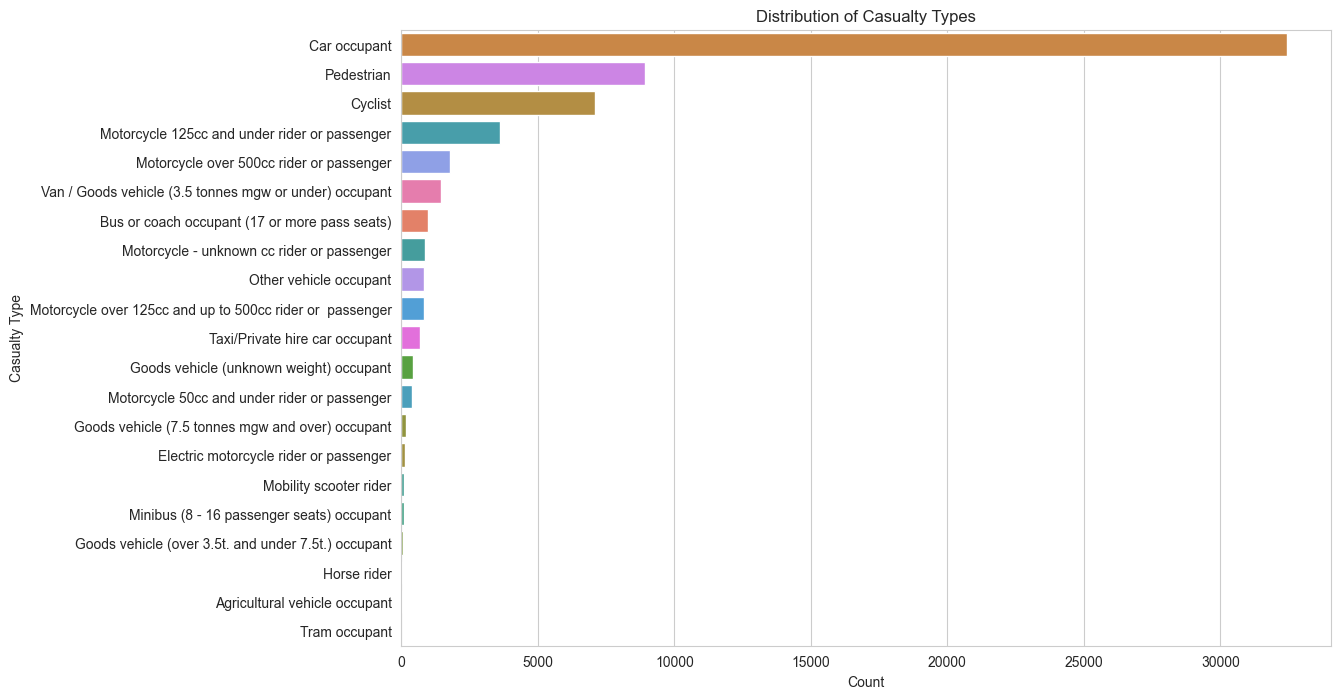

This screenshot's page, from the dashboard's own definition file:
{"tool":"powerbi","page":{"name":"Casualty Type / Home Area Type","canvas":[1280,720],"ordinal":8},"visuals":[{"type":"clusteredBarChart","fields":{"Series":["clean_df.casualty_home_area_type"],"Category":["clean_df.casualty_type"],"Y":["CountNonNull(clean_df.accident_index)"]},"box":[9.7,0,1270.3,719.8],"z":0}]}

Visuals, with their boxes on the page's 1280x720 design canvas (x1, y1, x2, y2). These are canvas units, not pixel positions in the 1341x699 screenshot, which may show the page scaled, cropped or inside an application window:
clusteredBarChart - clean_df.casualty_home_area_type x clean_df.casualty_type: l=10, t=0, r=1280, b=720
